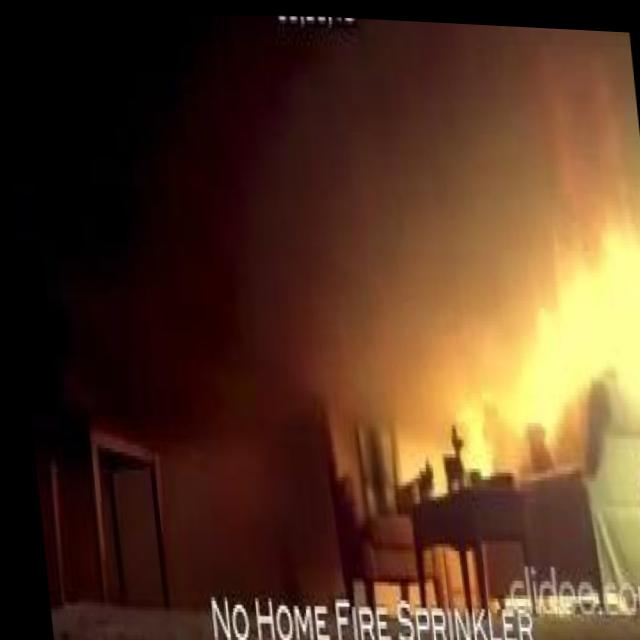fire: (434, 207, 640, 475)
